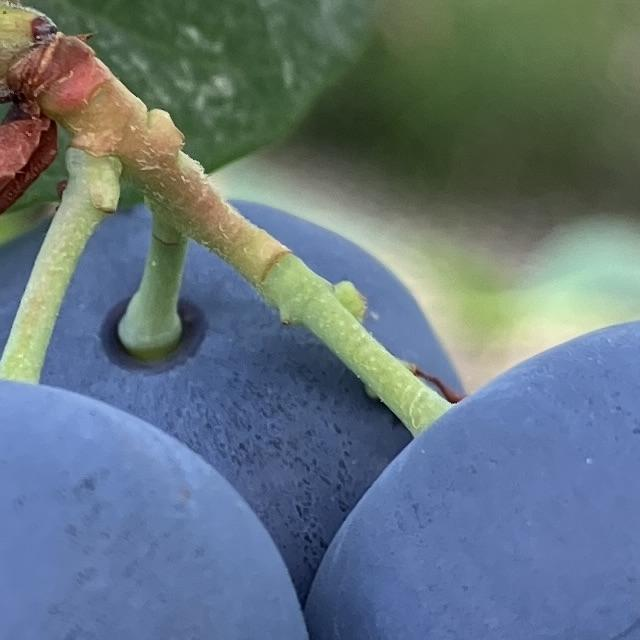Blueberries: (303, 308, 640, 640), (0, 359, 316, 640)
